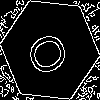O: (25, 25, 78, 79)
